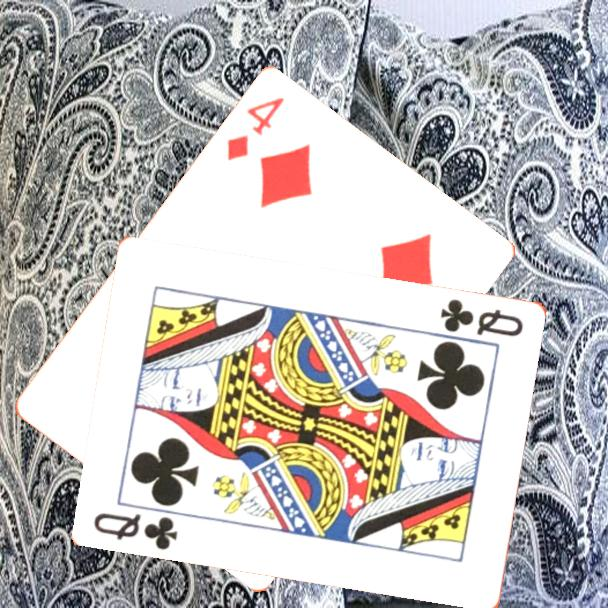c12: (90, 508, 181, 553), (437, 295, 527, 339)
d04: (223, 94, 288, 165)
